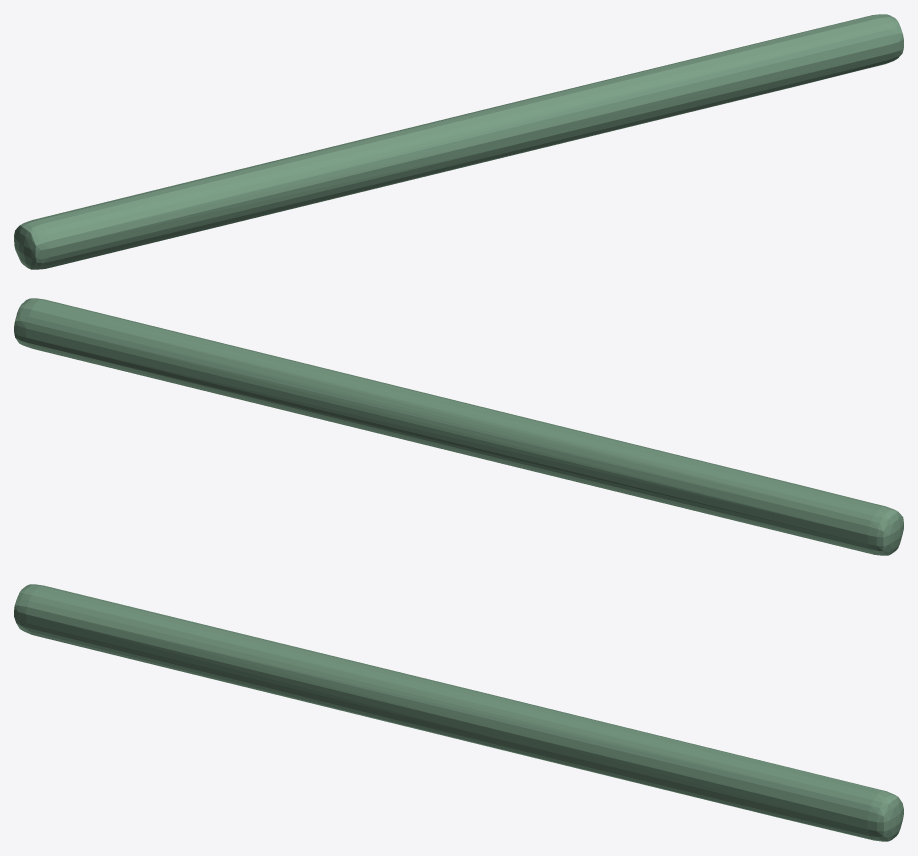
File: coacd_collision.obj
The picture shows the model from 3 angles, top to bottom: view 1: azimuth 30°, elevation 25°; view 2: azimuth 150°, elevation 25°; view 3: azimuth 330°, elevation 25°; orthographic projection.
Parts seen in each view (by area): view 1: geometry_0; view 2: geometry_0; view 3: geometry_0.
Part boxes in pixels (x1,y1,x2,y2): geometry_0: (14, 14, 903, 269); geometry_0: (14, 298, 903, 555); geometry_0: (14, 584, 903, 841).
Size of the model in its own units: 194 by 9.95 by 9.62.
